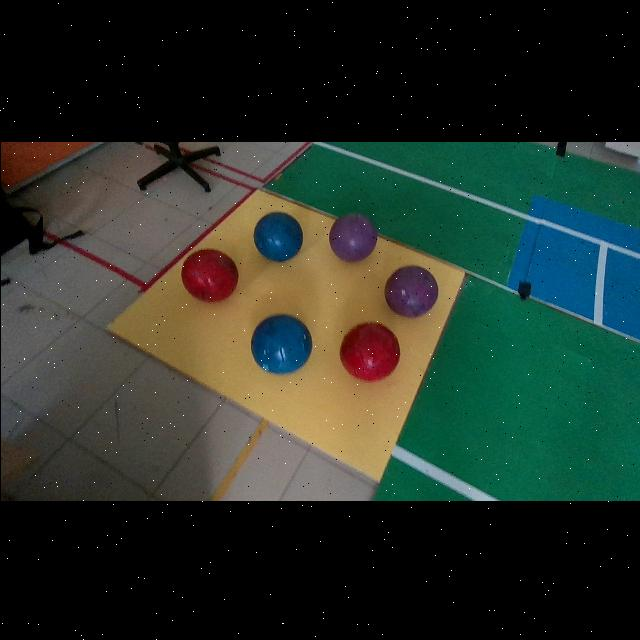B: (250, 313, 311, 372), (253, 211, 300, 260)
P: (383, 264, 437, 316), (328, 211, 376, 259)
R: (338, 321, 399, 380), (181, 248, 237, 300)
